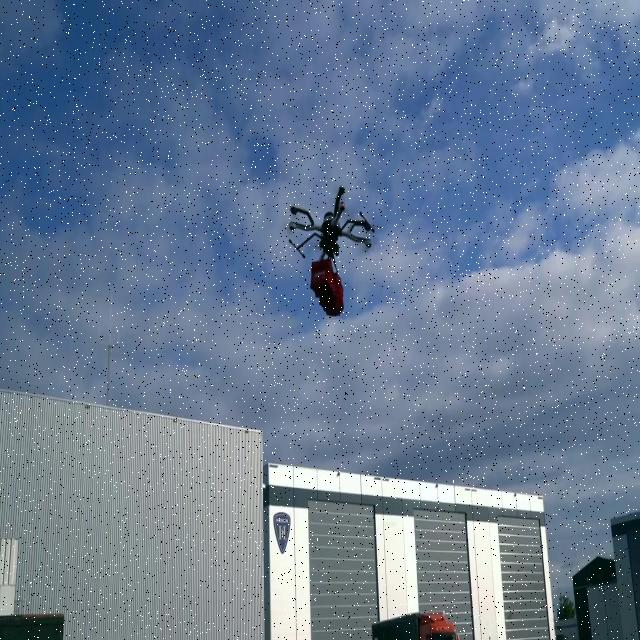UAV: (288, 186, 374, 277)
